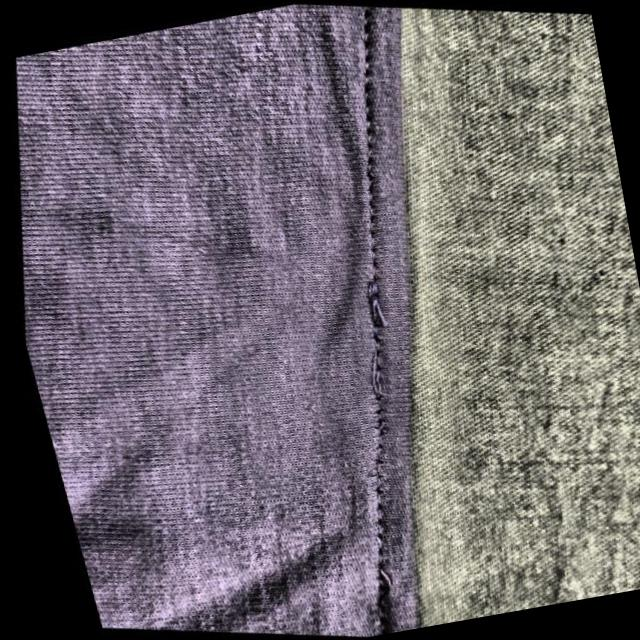seam: (260, 0, 511, 636)
